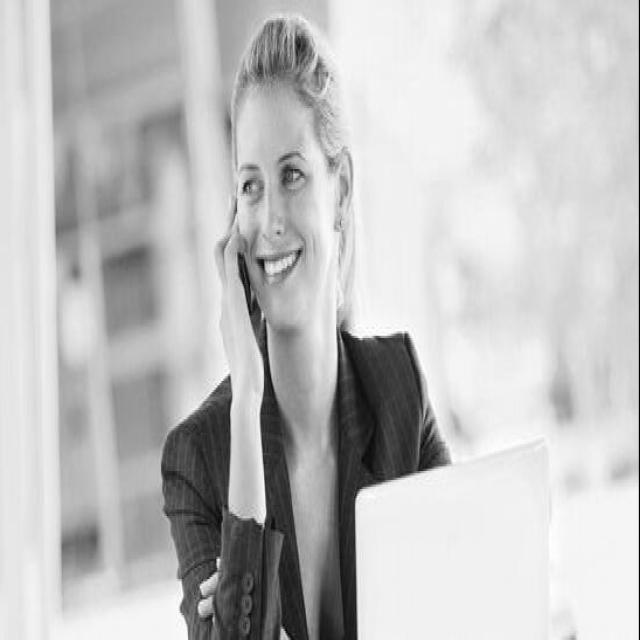phone: (213, 142, 278, 392)
